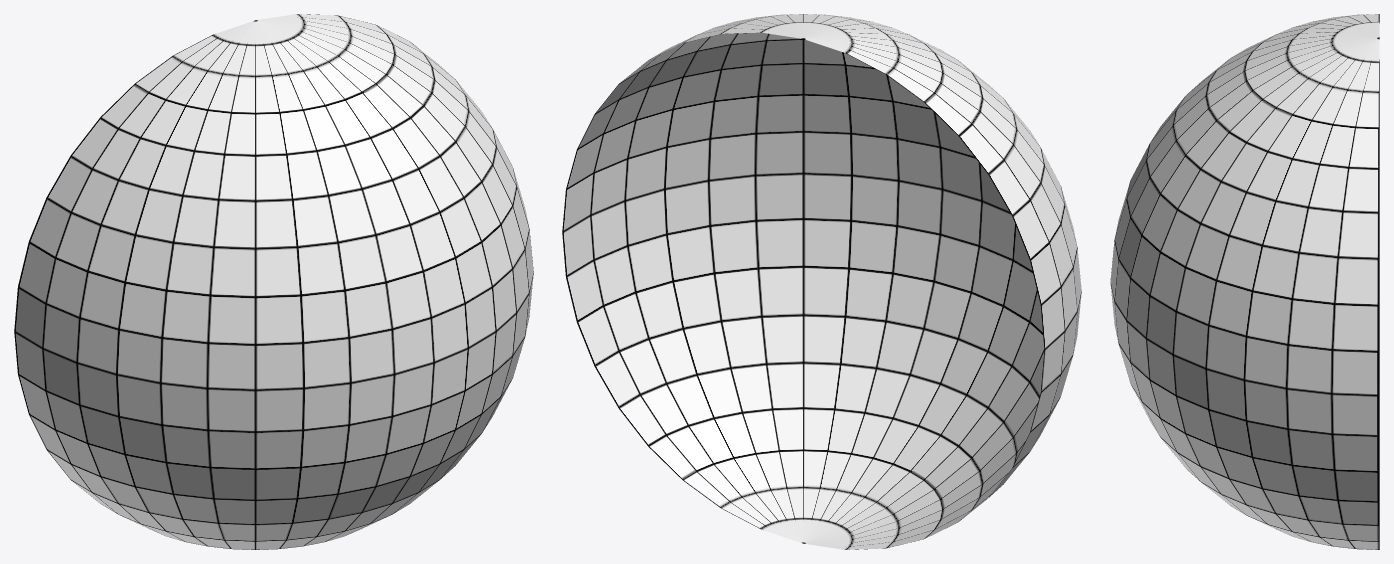
Rendered from stereonetModelNoSubdivide.fbx.
3 renders of one model, left to right at view 1: azimuth 30°, elevation 25°; view 2: azimuth 150°, elevation 25°; view 3: azimuth 270°, elevation 25°, orthographic. The views are drawn at different scales.
Visible parts, largest first — view 1: Sphere; view 2: Sphere; view 3: Sphere.
Part boxes in pixels (x1,y1,x2,y2): Sphere: (14, 14, 533, 549); Sphere: (562, 14, 1081, 549); Sphere: (1110, 14, 1379, 549).
Size of the model in its own units: 200 by 200 by 100.
